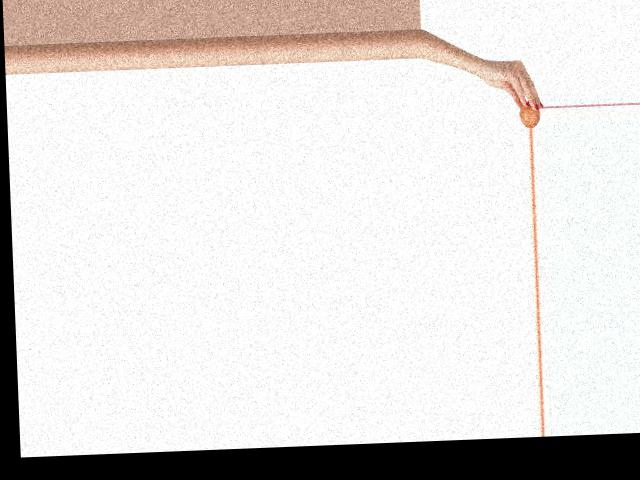egg: (519, 101, 540, 127)
